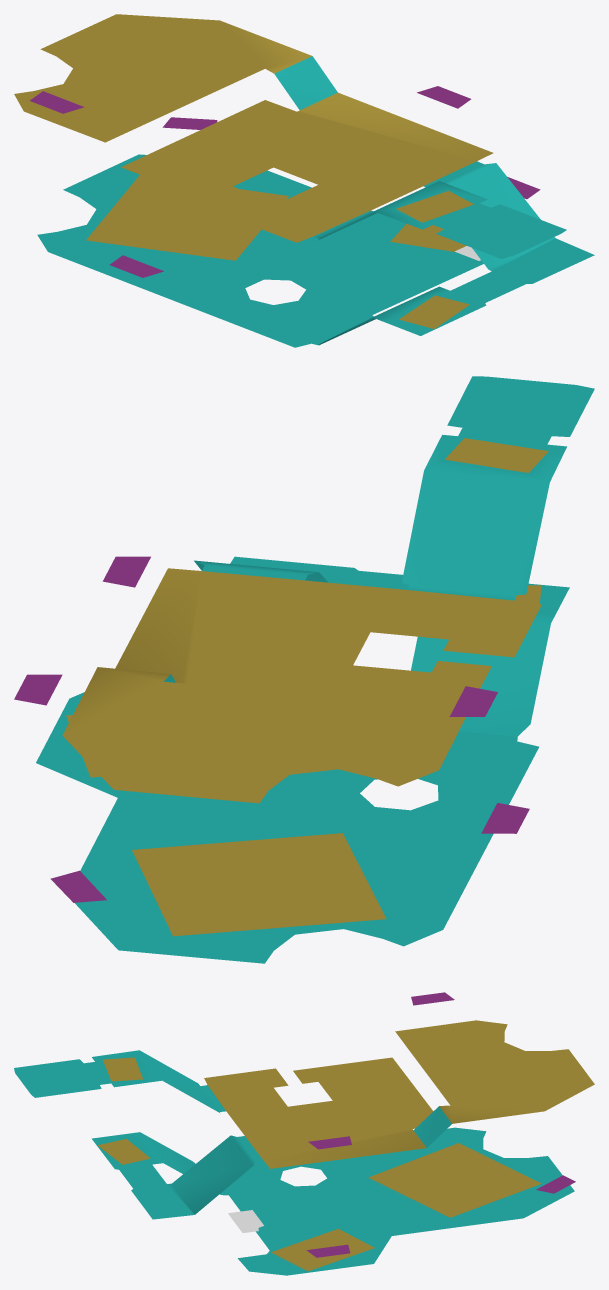
The model's file is col_appart_id's.max.fbx.
3 renders of one model, top to bottom at view 1: azimuth 30°, elevation 25°; view 2: azimuth 150°, elevation 25°; view 3: azimuth 270°, elevation 25°, orthographic. The views are drawn at different scales.
Visible parts, largest first — view 1: col2, col, col_niche02, col_niche03, col_niche04, col_niche01; view 2: col2, col, col_niche04, col_niche, col_niche02, col_niche01, col_niche03; view 3: col2, col, col_bar.
Boxes of the visible parts, box(x1,y1,x2,y2) form: col2: box(14, 14, 566, 271); col: box(37, 154, 594, 347); col_niche02: box(109, 255, 163, 277); col_niche03: box(29, 91, 84, 113); col_niche04: box(417, 86, 471, 108); col_niche01: box(162, 117, 217, 129); col2: box(62, 376, 594, 803); col: box(36, 556, 569, 963); col_niche04: box(102, 556, 150, 587); col_niche: box(14, 674, 62, 705); col_niche02: box(481, 803, 529, 833); col_niche01: box(50, 870, 106, 902); col_niche03: box(449, 686, 497, 716); col2: box(14, 1020, 594, 1214); col: box(92, 1127, 574, 1275); col_bar: box(228, 1210, 263, 1232).
Bounding box in the file's own units: 16.86 × 6.09 × 25.5.
